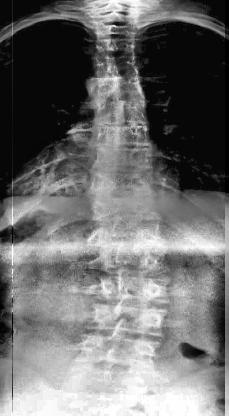Vertebrae: (69, 367, 153, 398), (80, 336, 156, 370), (92, 304, 164, 334), (103, 273, 169, 303), (92, 223, 164, 250), (94, 248, 166, 274), (89, 198, 159, 224), (90, 96, 148, 126), (90, 173, 154, 199), (94, 121, 148, 150), (89, 72, 143, 100), (92, 148, 152, 172), (93, 52, 137, 72), (94, 1, 138, 17), (95, 35, 137, 51), (93, 22, 136, 37), (93, 10, 138, 24)
